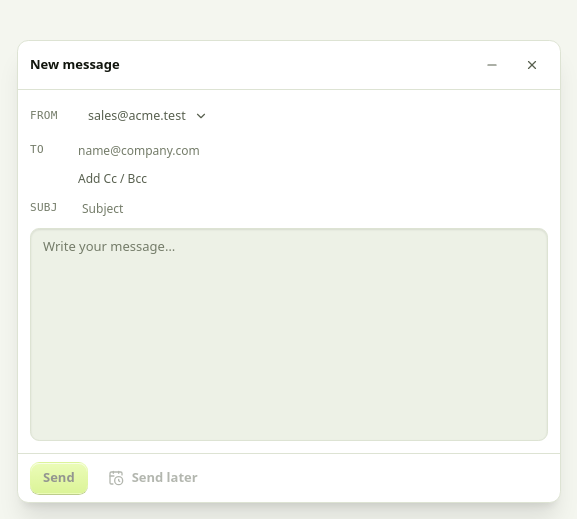
a suppressed recipient is explained rather than shown as a status
Expected: the button "sales@acme.test" is shown, [78, 102, 218, 130]
Type "ada@prospect.test," into the field labelled "To" at (311, 150), box [74, 136, 548, 164]
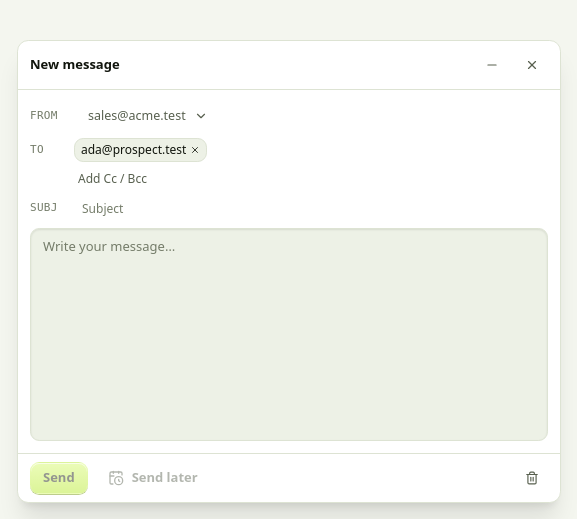
Type "Hello there" into the text box with placeholder "Write your message…" at (289, 334), box [30, 228, 548, 441]
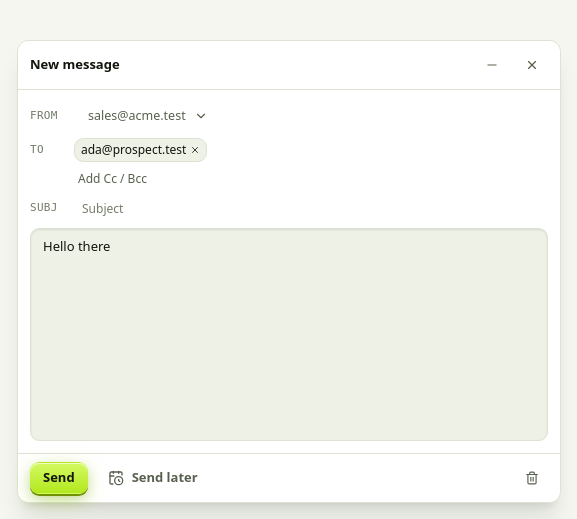
Click the button "Send" at (59, 478), box [30, 462, 88, 494]
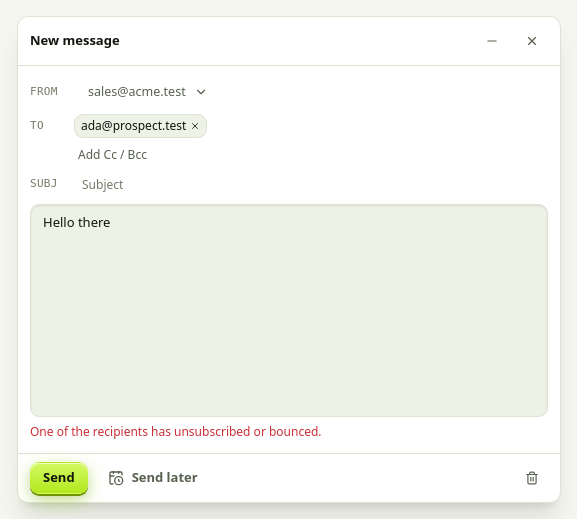
Expected: the message does not show "409", [30, 423, 322, 440]
Expected: the message shows "unsubscribed or bounced", [30, 423, 322, 440]
